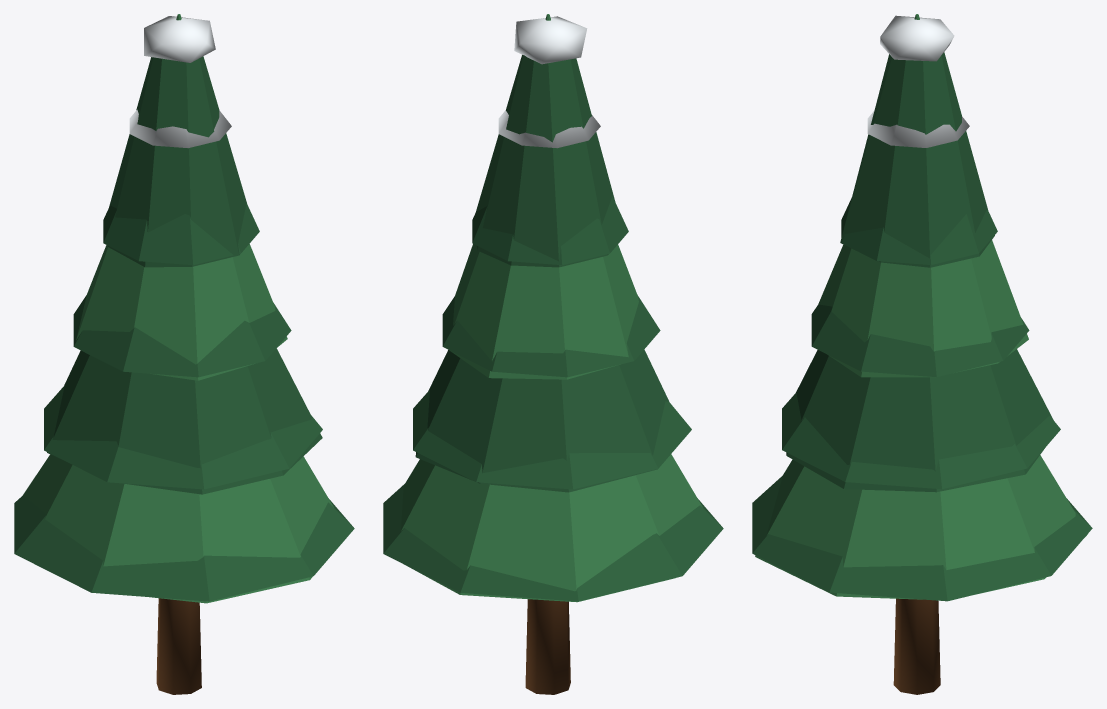
Rendered from hd_pine_snow.gltf.
3 views of the same model, side by side, from view 1: azimuth 30°, elevation 25°; view 2: azimuth 150°, elevation 25°; view 3: azimuth 270°, elevation 25° (orthographic).
Parts seen in each view (by area): view 1: tier0, tier1, tier3, tier2, lip0, lip1, lip2, lip3, trunk, snowTop, snow3; view 2: tier0, tier1, tier3, tier2, lip0, lip1, lip2, trunk, lip3, snowTop, snow3; view 3: tier0, tier1, tier3, tier2, lip0, lip1, lip2, trunk, lip3, snowTop, snow3.
Part boxes in pixels (left/top/right/bottom): tier0: left=23, top=454, right=333, bottom=603; tier1: left=47, top=348, right=322, bottom=494; tier3: left=108, top=56, right=246, bottom=267; tier2: left=76, top=244, right=287, bottom=380; lip0: left=14, top=495, right=354, bottom=601; lip1: left=44, top=385, right=322, bottom=489; lip2: left=73, top=295, right=291, bottom=377; lip3: left=103, top=203, right=259, bottom=265; trunk: left=156, top=598, right=201, bottom=694; snowTop: left=144, top=16, right=215, bottom=62; snow3: left=129, top=109, right=231, bottom=148; tier0: left=401, top=454, right=702, bottom=602; tier1: left=415, top=349, right=669, bottom=492; tier3: left=476, top=55, right=615, bottom=267; tier2: left=449, top=244, right=638, bottom=379; lip0: left=383, top=484, right=723, bottom=601; lip1: left=413, top=390, right=691, bottom=489; lip2: left=442, top=295, right=660, bottom=377; trunk: left=525, top=599, right=570, bottom=694; lip3: left=472, top=196, right=628, bottom=265; snowTop: left=514, top=16, right=587, bottom=64; snow3: left=498, top=110, right=600, bottom=148; tier0: left=755, top=455, right=1087, bottom=599; tier1: left=786, top=349, right=1053, bottom=492; tier3: left=840, top=52, right=994, bottom=267; tier2: left=818, top=240, right=1028, bottom=377; lip0: left=752, top=475, right=1092, bottom=601; lip1: left=782, top=393, right=1060, bottom=489; lip2: left=811, top=304, right=1029, bottom=377; trunk: left=893, top=598, right=940, bottom=694; lip3: left=841, top=197, right=997, bottom=264; snowTop: left=880, top=15, right=954, bottom=61; snow3: left=867, top=110, right=969, bottom=147.
Size of the model in its own units: 2.36 by 5.04 by 2.32.
